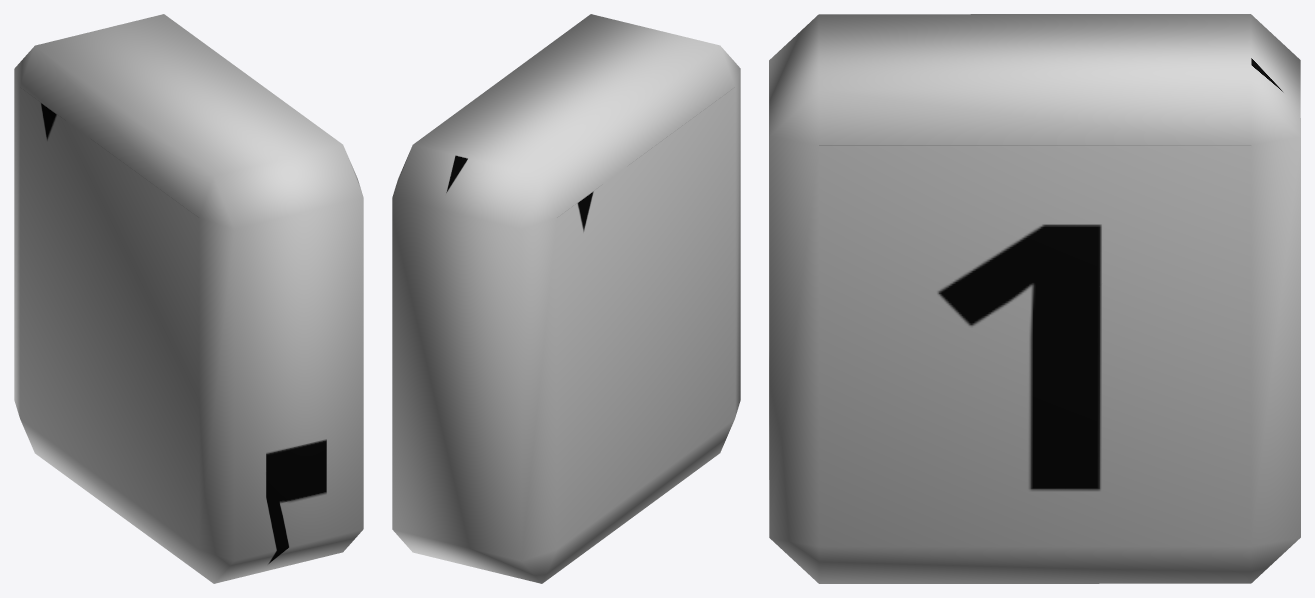
The model's file is Boton1.fbx.
The picture shows the model from 3 angles, left to right: view 1: azimuth 30°, elevation 25°; view 2: azimuth 150°, elevation 25°; view 3: azimuth 270°, elevation 25°; orthographic projection. The views are drawn at different scales.
Parts seen in each view (by area): view 1: Boton1; view 2: Boton1; view 3: Boton1.
Part boxes in pixels (left/top/right/bottom): Boton1: left=14, top=14, right=363, bottom=583; Boton1: left=392, top=14, right=740, bottom=583; Boton1: left=769, top=14, right=1300, bottom=583.
Bounding box in the file's own units: 1.36 × 3.32 × 3.25.
